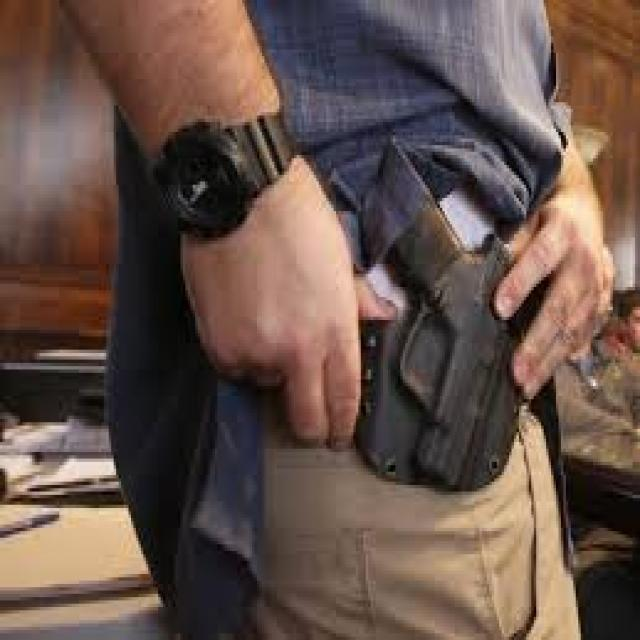gun: (340, 110, 528, 502)
